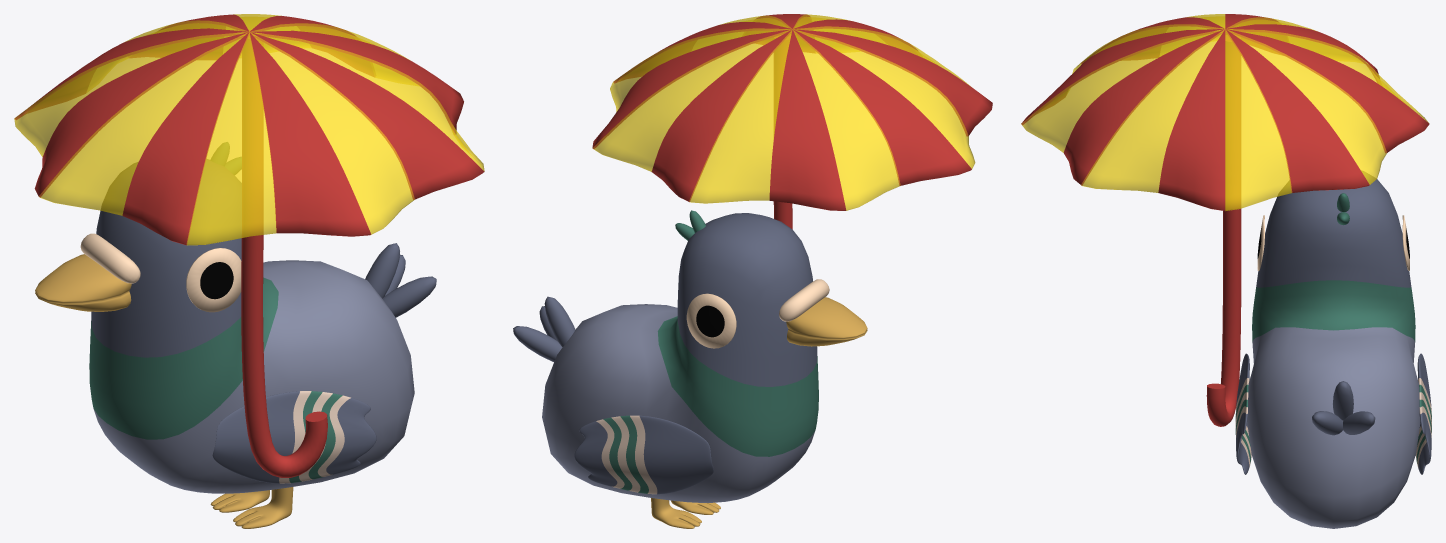
The model's file is POMBO_NORMAL_GUARDA_CHUVA.fbx.
3 renders of one model, left to right at view 1: azimuth 30°, elevation 25°; view 2: azimuth 150°, elevation 25°; view 3: azimuth 270°, elevation 25°, orthographic. The views are drawn at different scales.
Parts seen in each view (by area): view 1: Circle.042, Cube.338, BézierCurve.011, Cube.345, Cube.339, Circle.041, Cube.347, Cube.346, Cube.343, Cube.342; view 2: Circle.042, Cube.338, Cube.345, Cube.339, Circle.041, Cube.347, BézierCurve.011, Cube.346, Cube.344, Cube.342; view 3: Circle.042, Cube.338, BézierCurve.011, Cube.345, Cube.342, Cube.344, Cube.343, Circle.041.
Boxes of the visible parts, x1=… form: Circle.042: x1=14, y1=14, x2=484, y2=245; Cube.338: x1=89, y1=159, x2=414, y2=493; BézierCurve.011: x1=241, y1=30, x2=327, y2=477; Cube.345: x1=212, y1=391, x2=376, y2=483; Cube.339: x1=35, y1=254, x2=131, y2=311; Circle.041: x1=186, y1=248, x2=241, y2=312; Cube.347: x1=210, y1=487, x2=293, y2=528; Cube.346: x1=80, y1=233, x2=140, y2=283; Cube.343: x1=382, y1=276, x2=436, y2=317; Cube.342: x1=365, y1=243, x2=399, y2=298; Circle.042: x1=592, y1=14, x2=992, y2=210; Cube.338: x1=542, y1=213, x2=818, y2=502; Cube.345: x1=574, y1=415, x2=713, y2=494; Cube.339: x1=786, y1=297, x2=867, y2=346; Circle.041: x1=686, y1=293, x2=736, y2=348; Cube.347: x1=651, y1=498, x2=720, y2=528; BézierCurve.011: x1=773, y1=34, x2=792, y2=229; Cube.346: x1=779, y1=279, x2=829, y2=321; Cube.344: x1=513, y1=326, x2=562, y2=361; Cube.342: x1=544, y1=296, x2=575, y2=346; Circle.042: x1=1021, y1=14, x2=1429, y2=210; Cube.338: x1=1247, y1=170, x2=1420, y2=528; BézierCurve.011: x1=1206, y1=35, x2=1241, y2=426; Cube.345: x1=1235, y1=353, x2=1431, y2=474; Cube.342: x1=1333, y1=381, x2=1353, y2=420; Cube.344: x1=1343, y1=411, x2=1375, y2=434; Cube.343: x1=1312, y1=411, x2=1342, y2=435; Circle.041: x1=1257, y1=215, x2=1409, y2=270.
Bounding box in the file's own units: 279 × 319 × 261.
